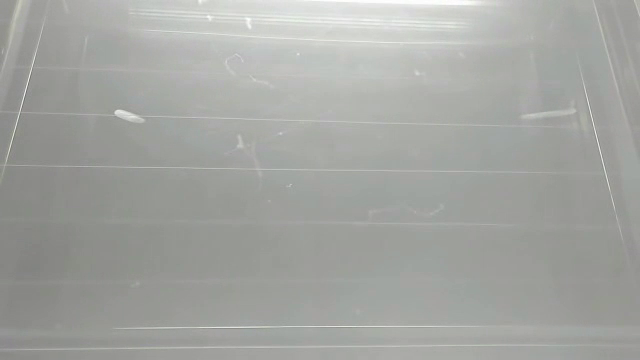alpha: (518, 107, 579, 121), (112, 107, 146, 127)
